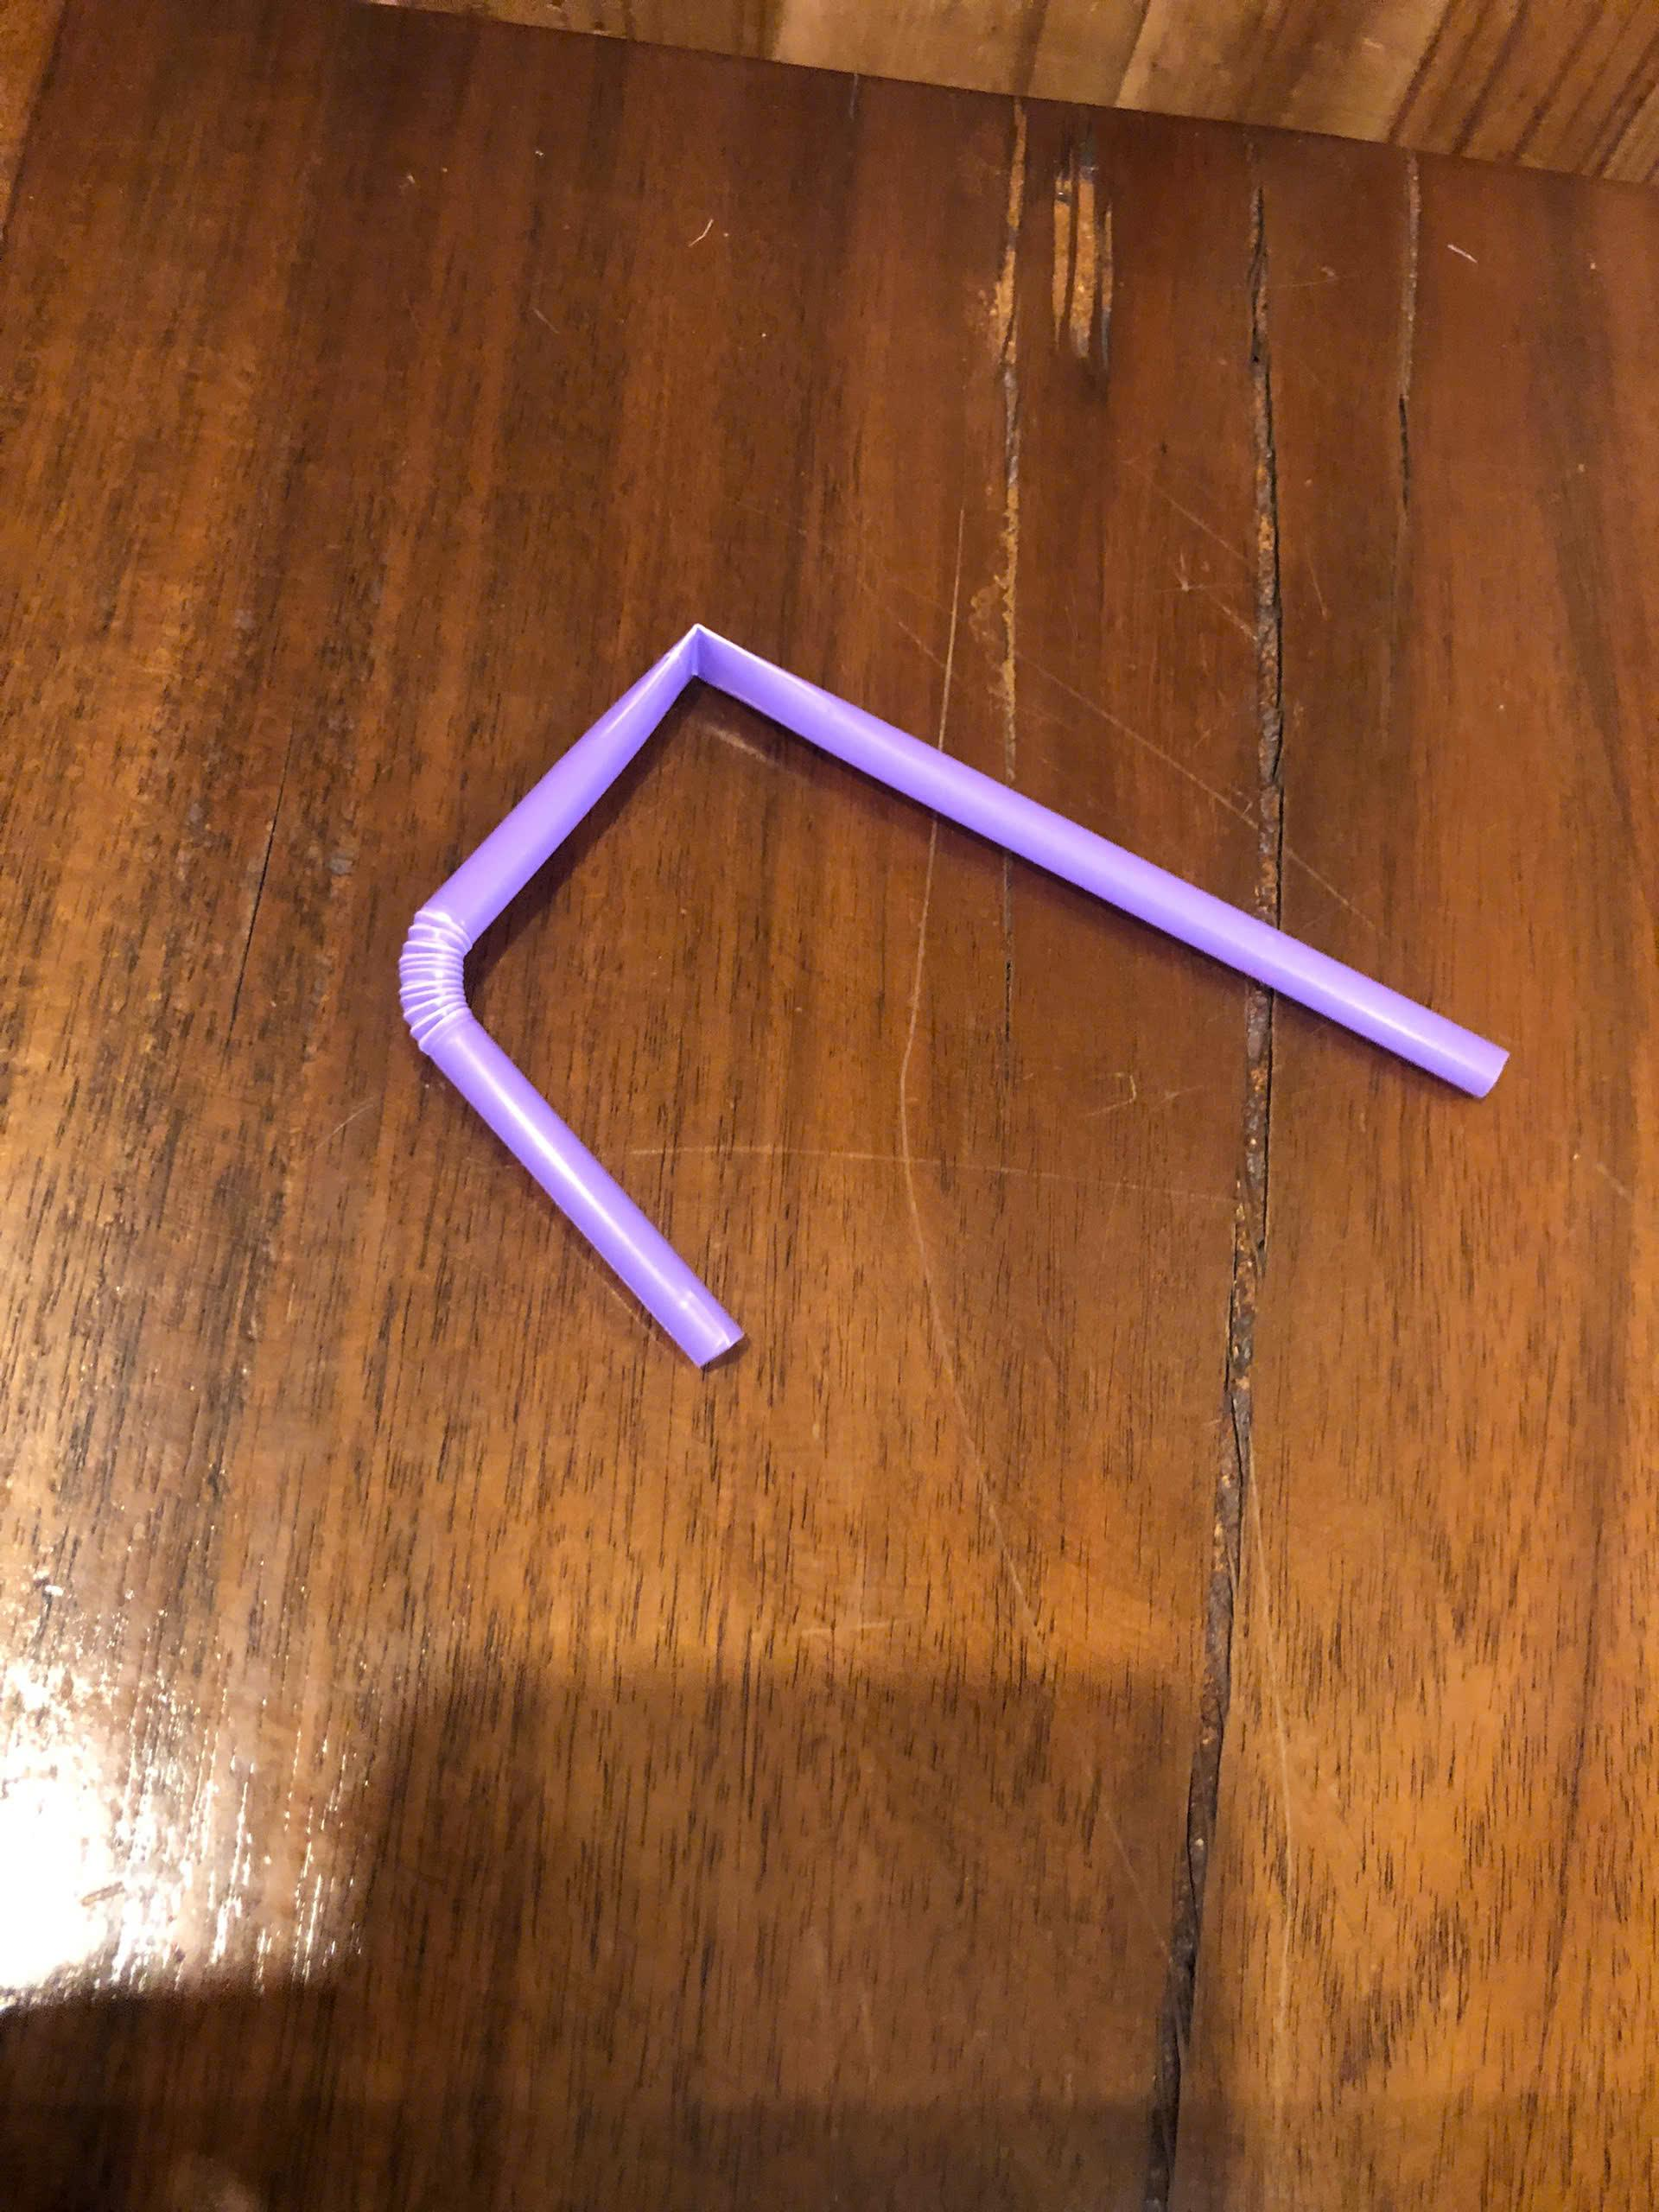Vo co: (397, 615, 1518, 1367)
